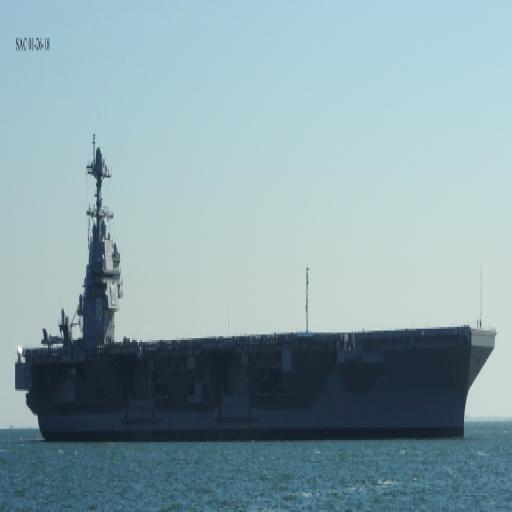Portanaves: (13, 103, 500, 449)
